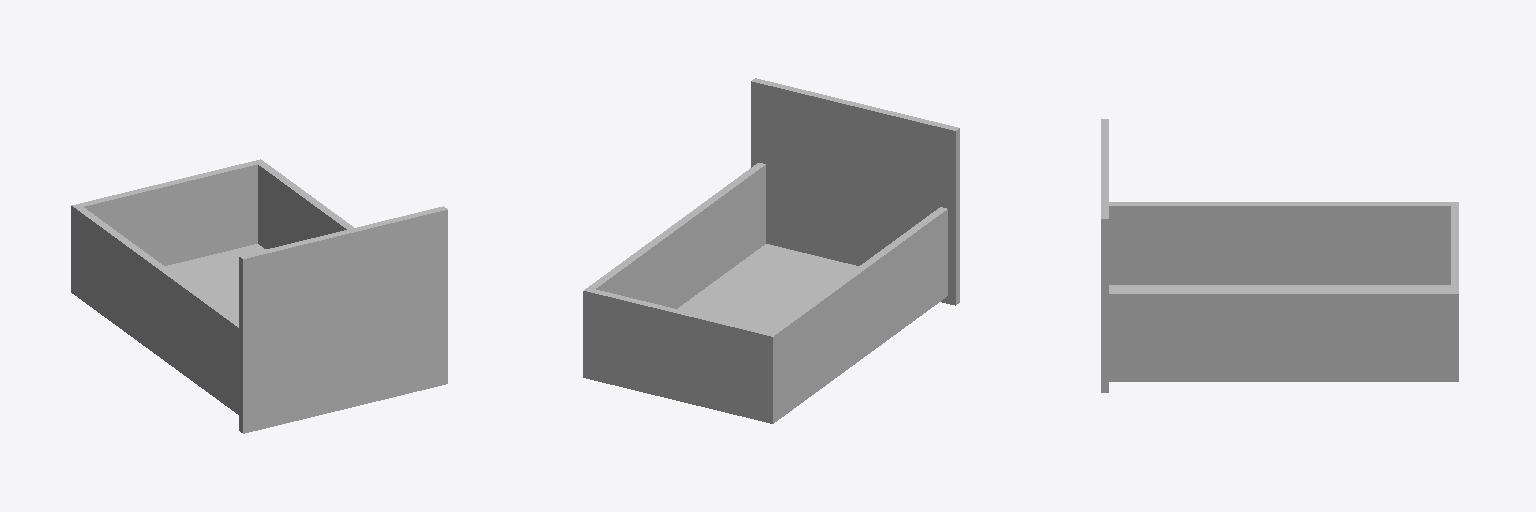
Rendered from KitchenOPEN_Export-31.obj.
3 views of the same model, side by side, from view 1: azimuth 30°, elevation 25°; view 2: azimuth 150°, elevation 25°; view 3: azimuth 270°, elevation 25° (orthographic).
Visible parts, largest first — view 1: KitchenOPEN_Export-31; view 2: KitchenOPEN_Export-31; view 3: KitchenOPEN_Export-31.
Boxes of the visible parts, x1,y1,x2,y2 form: KitchenOPEN_Export-31: [71, 159, 447, 433]; KitchenOPEN_Export-31: [583, 78, 959, 423]; KitchenOPEN_Export-31: [1101, 119, 1458, 392].
Size of the model in its own units: 27 by 22 by 41.